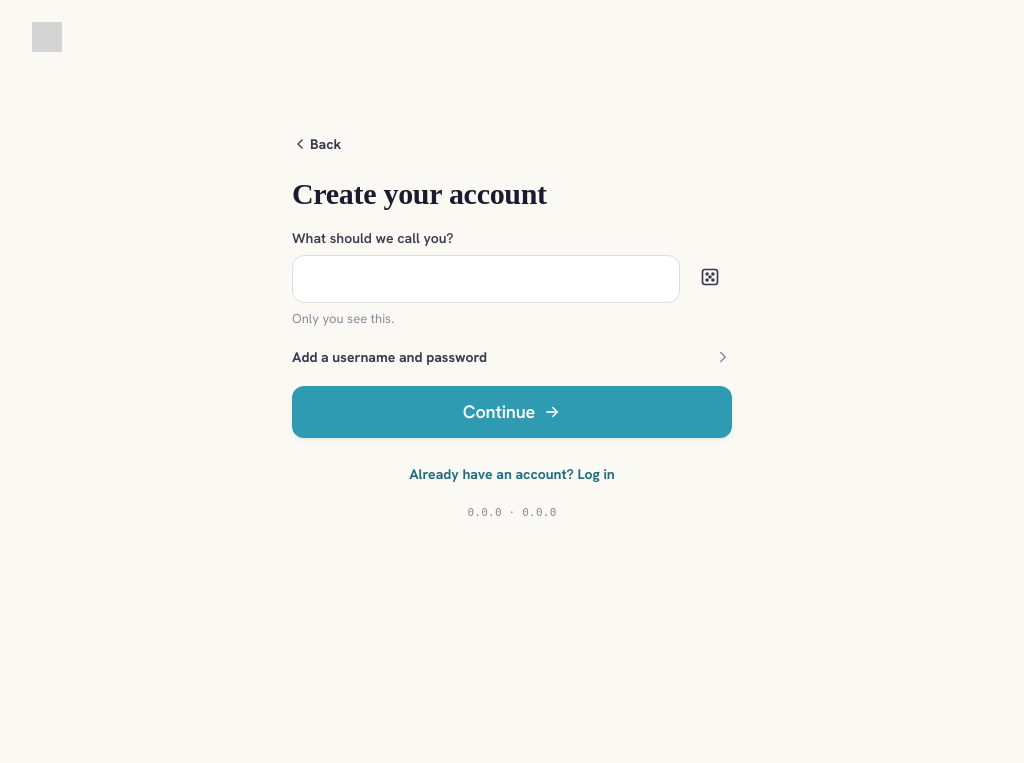
Test: App onboarding flow › creates a real account and enters the app as the derived owner
The image size is (1024, 763).
Type "kai" into the field labelled "What should we call you?" at [486, 279], box [292, 255, 680, 303]
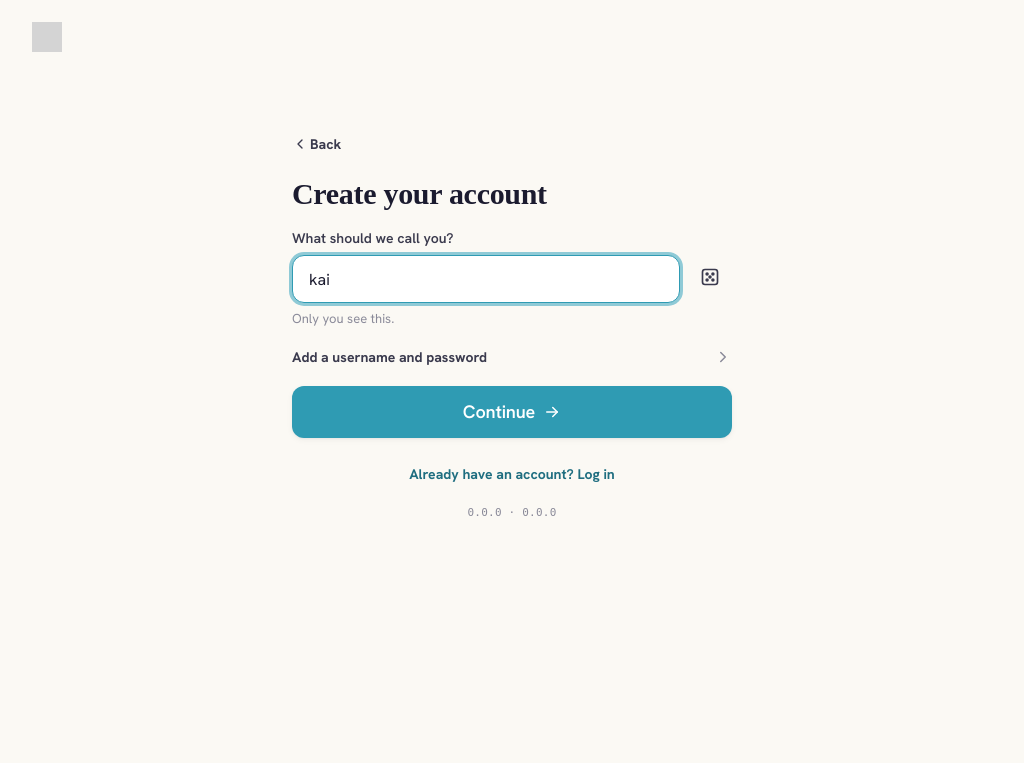
Click the button "Continue" at [512, 412], box [292, 386, 732, 438]
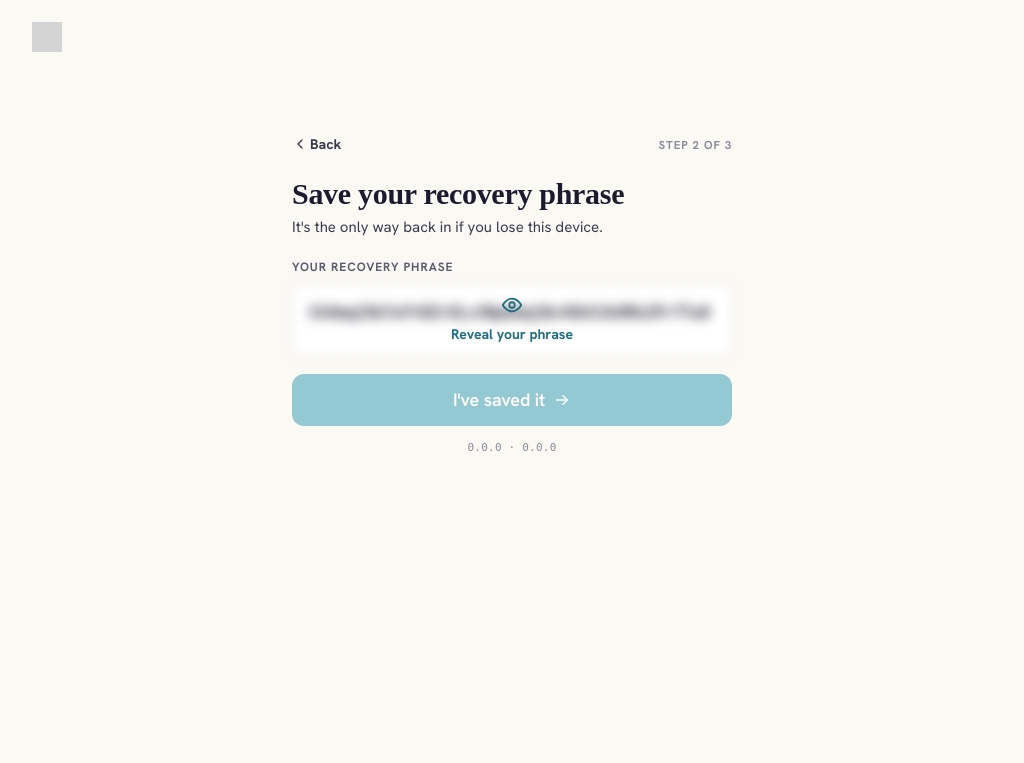
Click the button "Reveal your phrase" at [512, 334], box [292, 284, 732, 356]
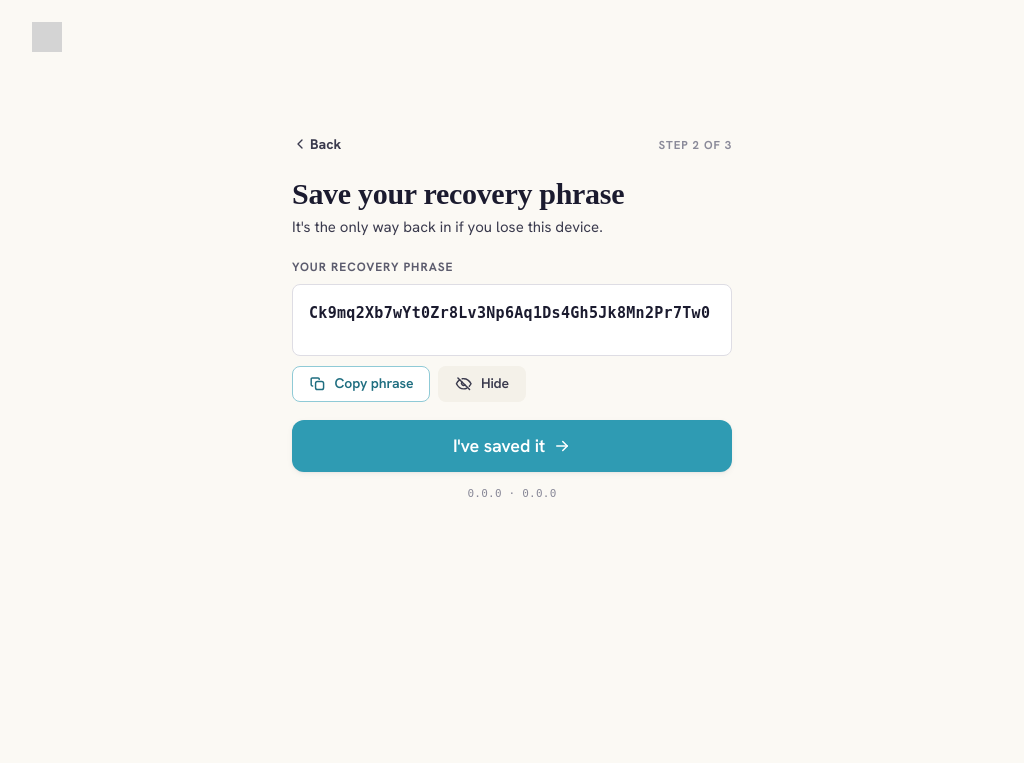
Click the button "I've saved it" at [512, 446], box [292, 420, 732, 472]
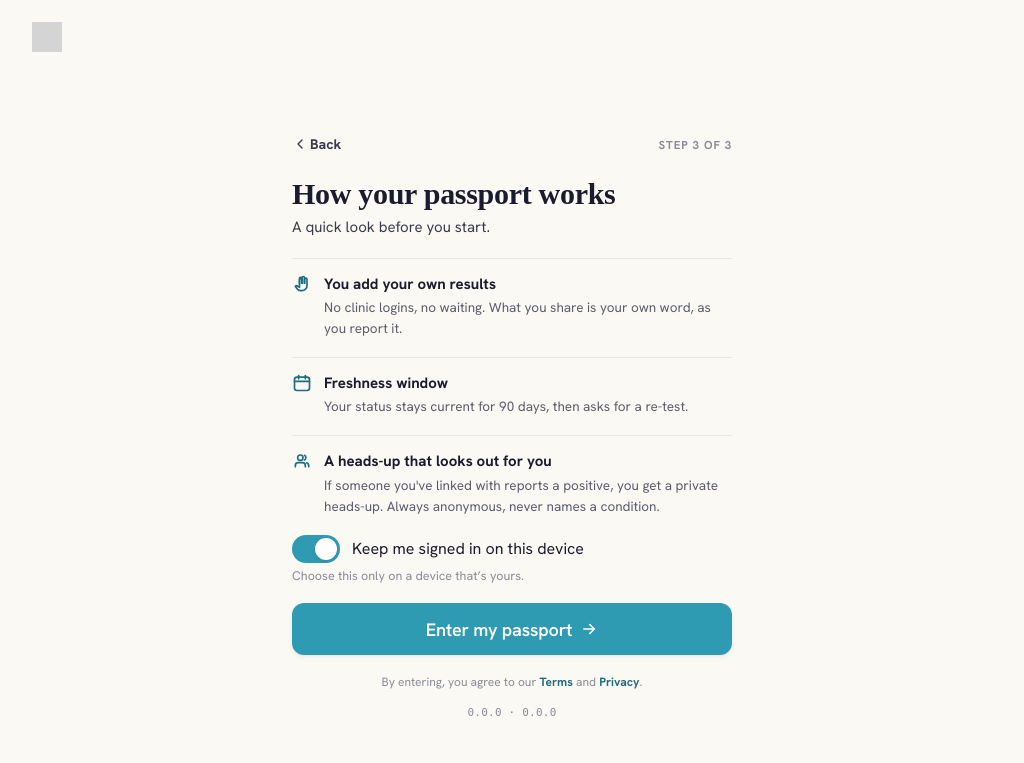
Click the button "Enter my passport" at [512, 630], box [292, 604, 732, 656]
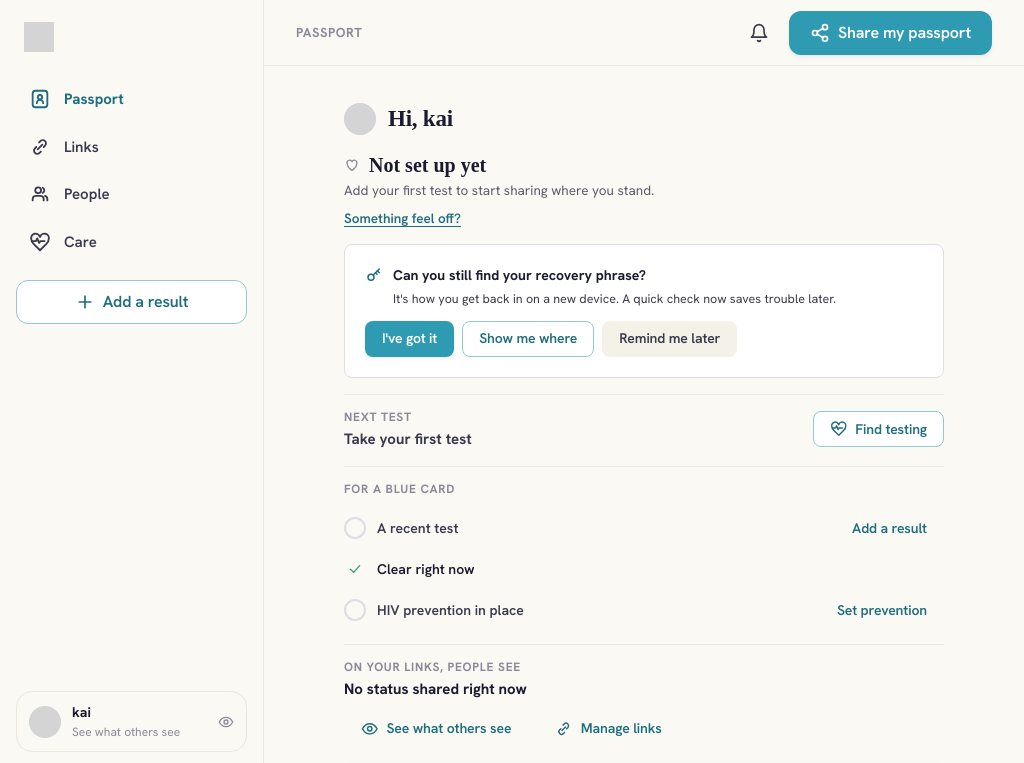
Result: the heading "Hi, kai" is shown at [388, 102, 453, 136]
